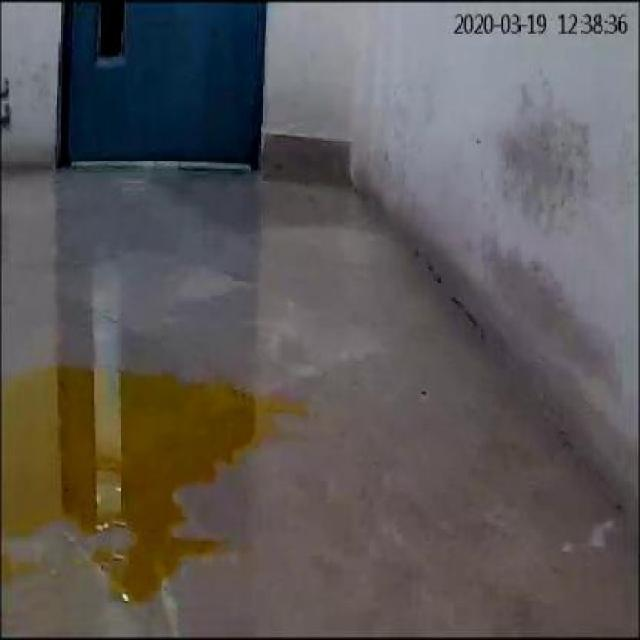spill: (5, 364, 313, 600)
